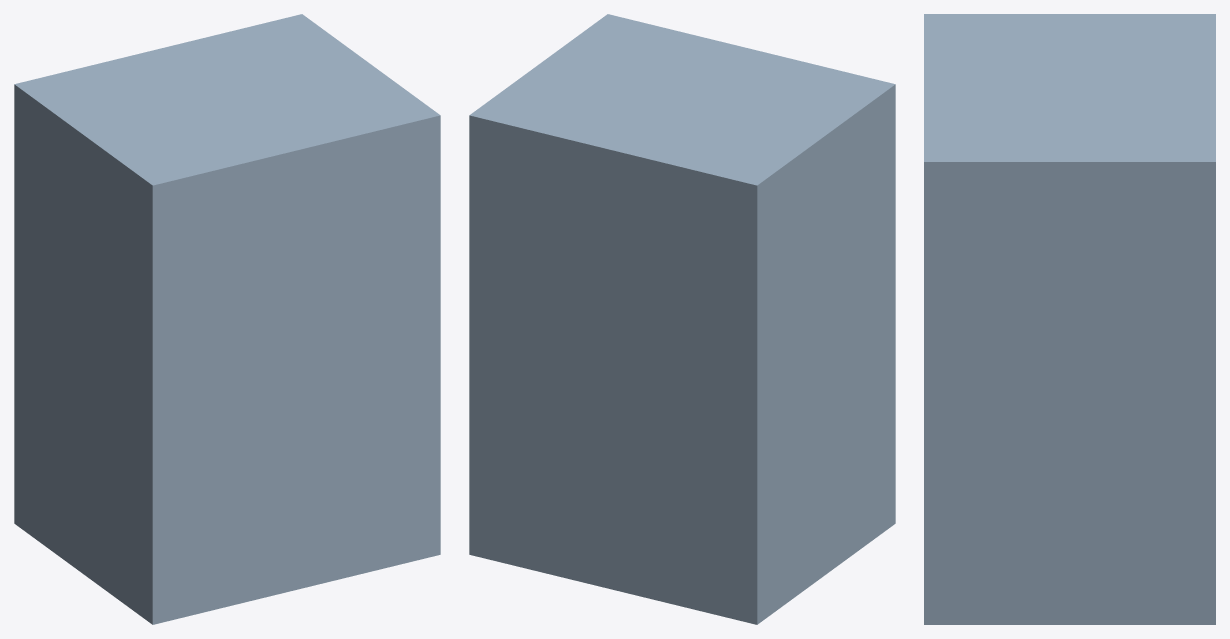
Rendered from lock-iron.glb.
The picture shows the model from 3 angles, left to right: view 1: azimuth 30°, elevation 25°; view 2: azimuth 150°, elevation 25°; view 3: azimuth 270°, elevation 25°; orthographic projection. The views are drawn at different scales.
Visible parts, largest first — view 1: root; view 2: root; view 3: root.
Part boxes in pixels (<box>): root: <box>14,14,440,624</box>; root: <box>469,14,895,624</box>; root: <box>924,14,1215,624</box>.
Size of the model in its own units: 0.24 by 0.35 by 0.2.
Materials: 1 (1 with a texture image).
